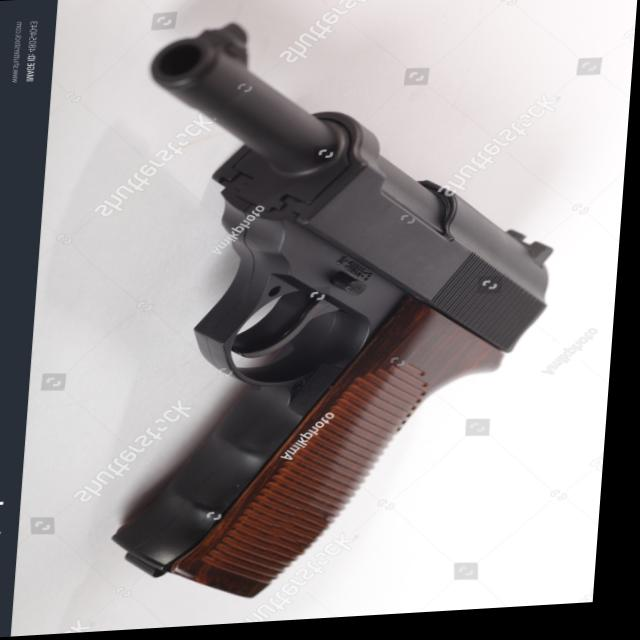handgun: (115, 7, 577, 606)
